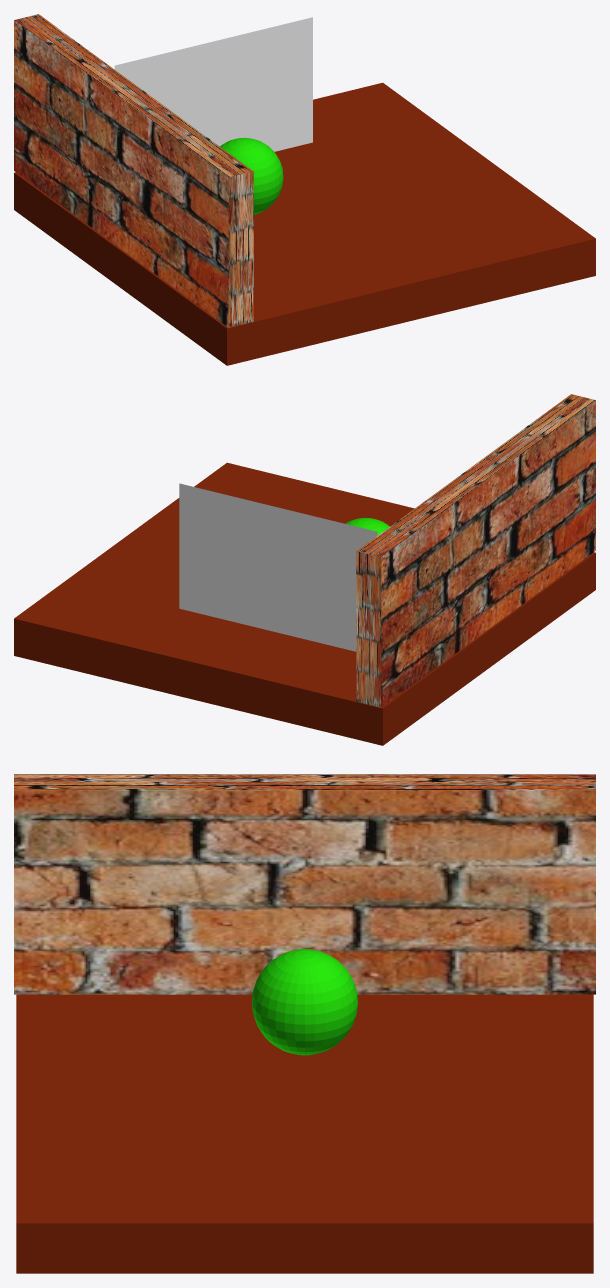
File: espejo.gltf
The picture shows the model from 3 angles, top to bottom: view 1: azimuth 30°, elevation 25°; view 2: azimuth 150°, elevation 25°; view 3: azimuth 270°, elevation 25°; orthographic projection. The views are drawn at different scales.
Parts seen in each view (by area): view 1: Cubo, Cubo.001, Plano, Esfera; view 2: Cubo, Cubo.001, Plano; view 3: Cubo, Cubo.001, Esfera.
Part boxes in pixels (<box>): Cubo: <box>14,82,595,365</box>; Cubo.001: <box>14,14,253,327</box>; Plano: <box>114,17,312,151</box>; Esfera: <box>220,137,283,214</box>; Cubo: <box>14,462,595,745</box>; Cubo.001: <box>356,394,595,707</box>; Plano: <box>179,483,377,651</box>; Cubo: <box>16,994,593,1273</box>; Cubo.001: <box>14,774,595,994</box>; Esfera: <box>252,949,357,1055</box>.
Bounding box in the file's own units: 10.86 × 5.32 × 10.95.
4 materials, 1 textured.
